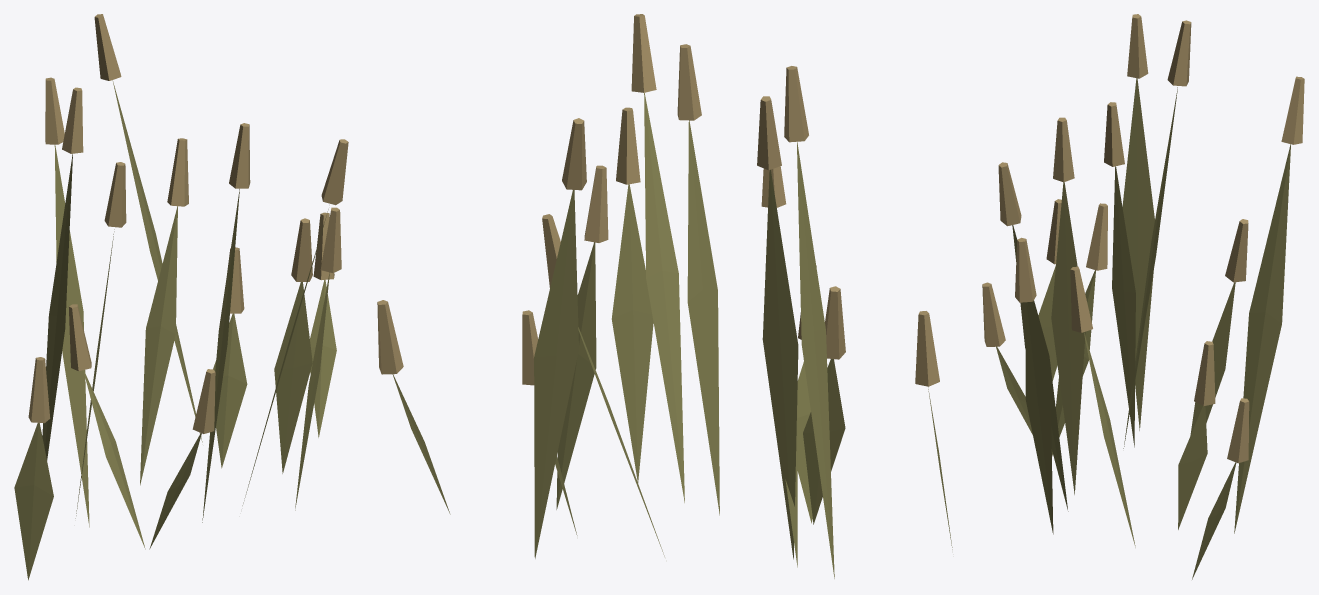
The model's file is NAT_V3_Sedge_Clump.glb.
3 renders of one model, left to right at view 1: azimuth 30°, elevation 25°; view 2: azimuth 150°, elevation 25°; view 3: azimuth 270°, elevation 25°, orthographic. The views are drawn at different scales.
Parts seen in each view (by area): view 1: NAT_V3_Sedge_Clump; view 2: NAT_V3_Sedge_Clump; view 3: NAT_V3_Sedge_Clump.
Part boxes in pixels (bbox=[...]): NAT_V3_Sedge_Clump: bbox=[14, 14, 348, 580]; NAT_V3_Sedge_Clump: bbox=[377, 14, 952, 578]; NAT_V3_Sedge_Clump: bbox=[982, 14, 1304, 579].
Bounding box in the file's own units: 0.8535 × 0.8794 × 0.5913.
